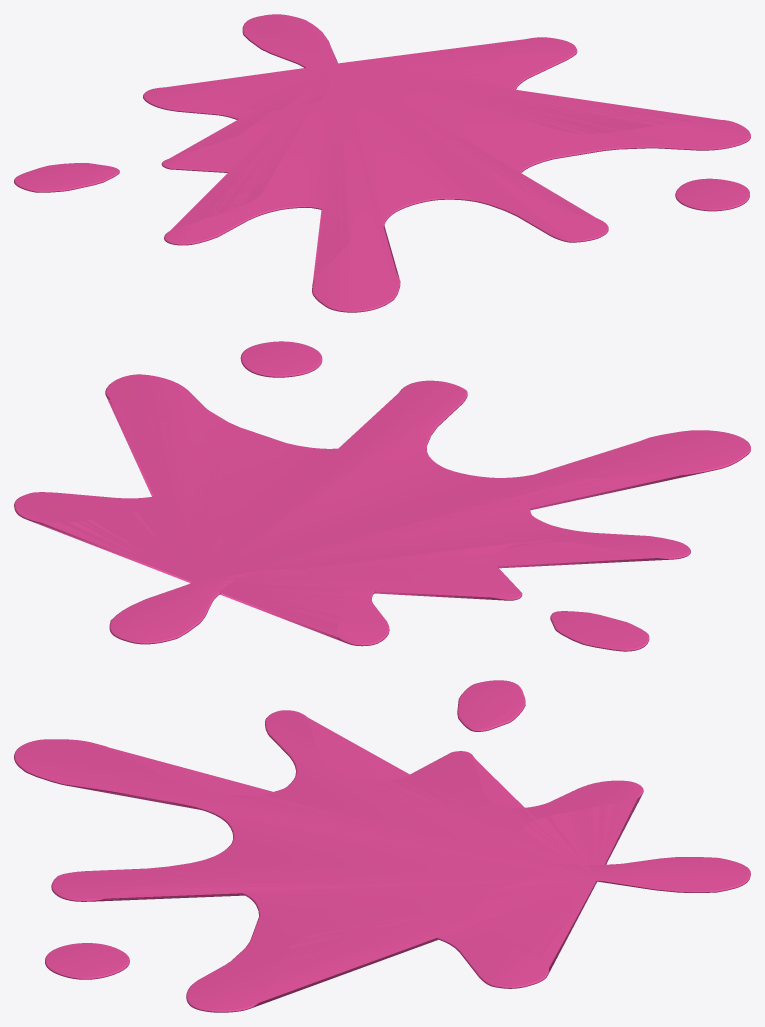
Rendered from paintSplatMod.fbx.
3 views of the same model, one above another, from view 1: azimuth 30°, elevation 25°; view 2: azimuth 150°, elevation 25°; view 3: azimuth 270°, elevation 25° (orthographic). The views are drawn at different scales.
Visible parts, largest first — view 1: Curve.002; view 2: Curve.002; view 3: Curve.002.
Boxes of the visible parts, x1,y1,x2,y2 form: Curve.002: (14, 14, 750, 312); Curve.002: (14, 341, 750, 651); Curve.002: (14, 680, 750, 1012).
Bounding box in the file's own units: 8.6 × 0.0196 × 8.08.
